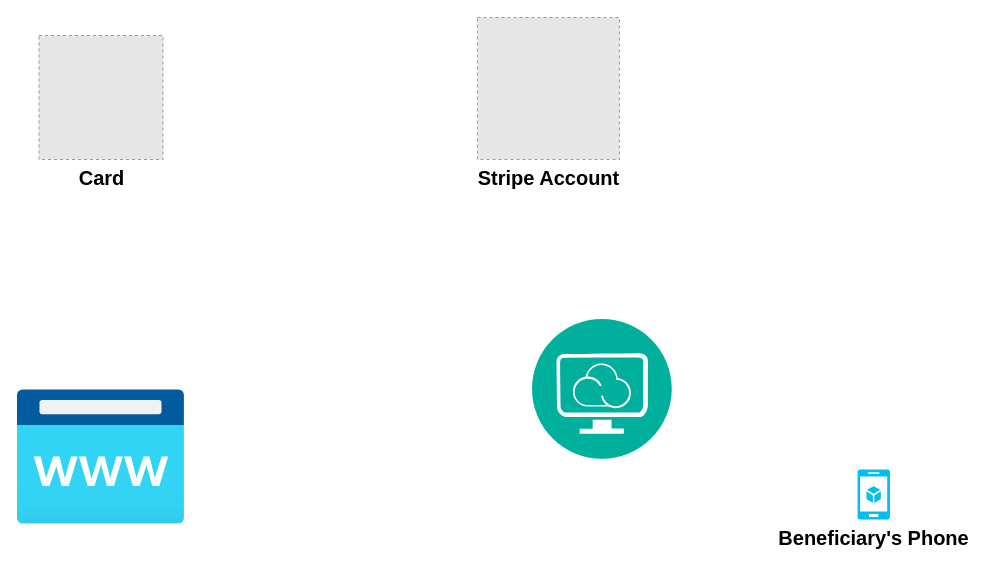
Image size: 986x573. Some labels were removed from this diagram. Grey dashed boxes stand in for pictures. Each missing label, with the box of its shape:
Admin CU (BO): (17, 389, 184, 524)
Peex Portal: (532, 319, 672, 459)
